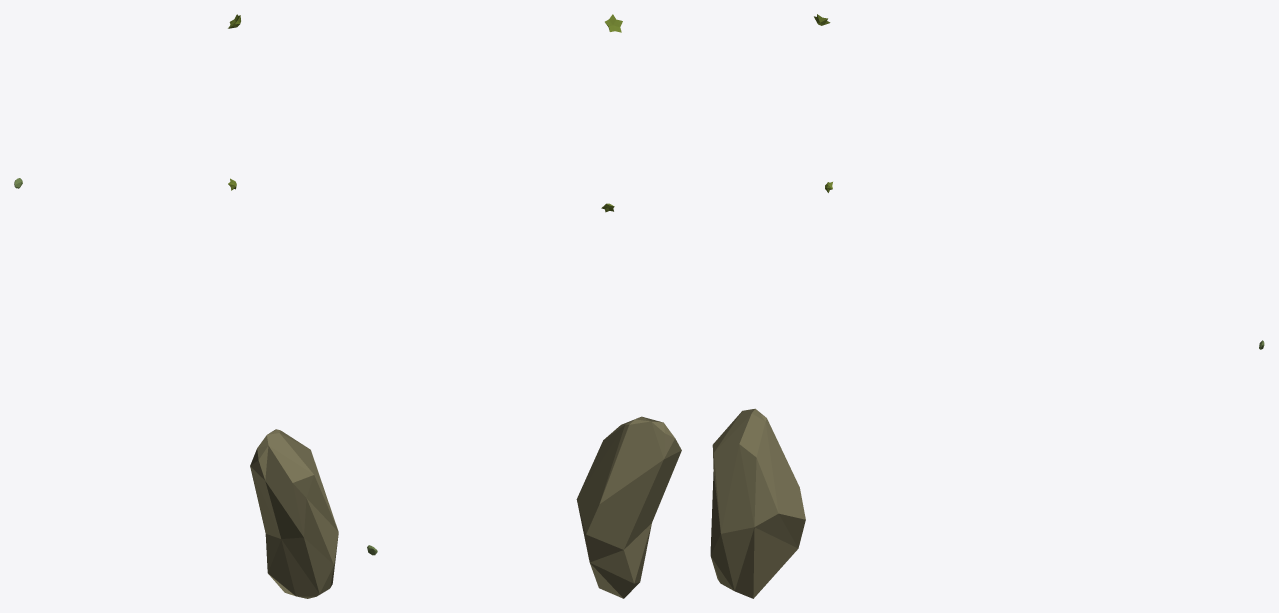
3 renders of one model, left to right at view 1: azimuth 30°, elevation 25°; view 2: azimuth 150°, elevation 25°; view 3: azimuth 270°, elevation 25°, orthographic. The views are drawn at different scales.
Parts seen in each view (by area): view 1: Box15766_rock2_0; view 2: Box15766_rock2_0; view 3: Box15766_rock2_0.
Boxes of the visible parts, x1,y1,x2,y2 form: Box15766_rock2_0: (250,429,338,598); Box15766_rock2_0: (576,416,681,598); Box15766_rock2_0: (710,408,805,598).
Bounding box in the file's own units: 624 × 4307 × 3840.
